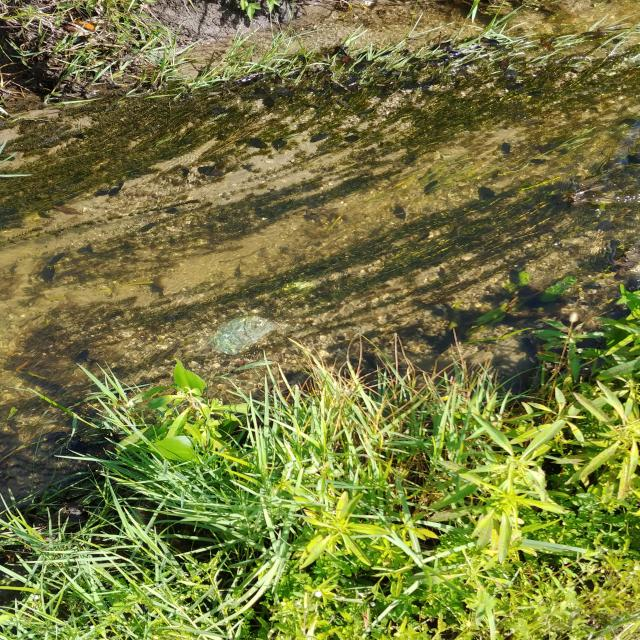litter: (207, 317, 280, 355)
